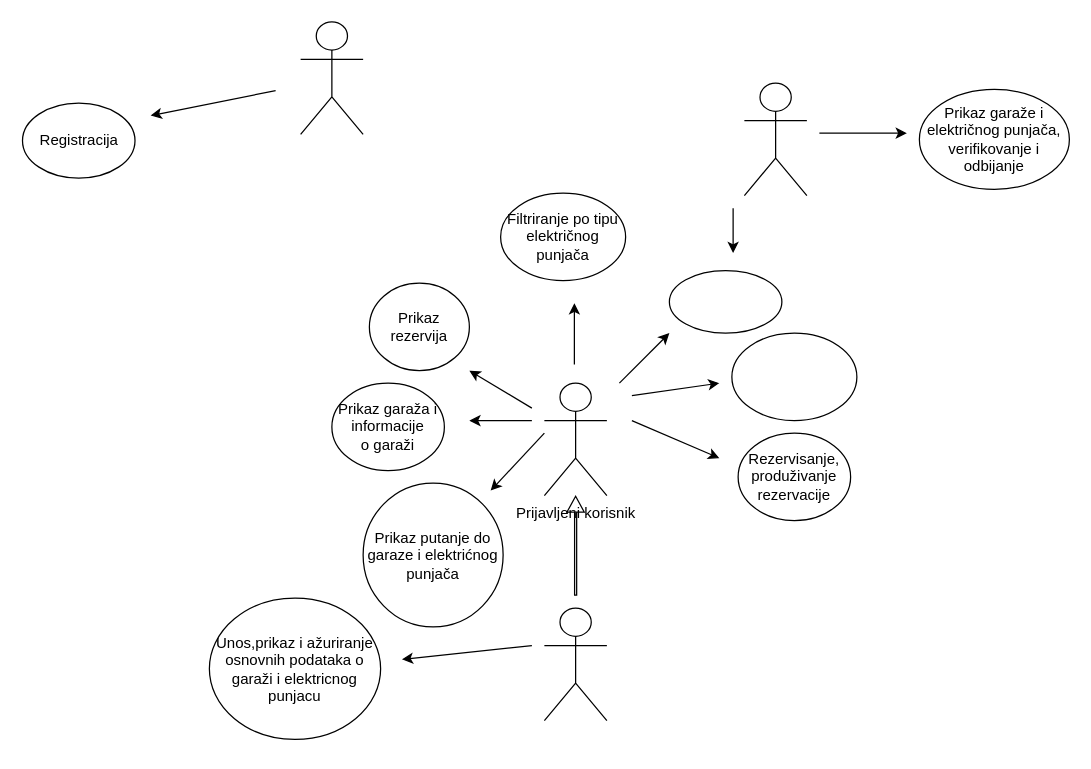
This 1091x769 diagram has some shape labels left out. The centre of each missing label's shape, as x and y in pixels:
"Admin" goes at point (775, 139).
"Filtriranje i pretraga garaža" goes at point (794, 376).
"Neregistrovan korisnik" goes at point (331, 77).
"Prijavljivanje" goes at point (725, 301).
"Vlasnik" goes at point (575, 664).
